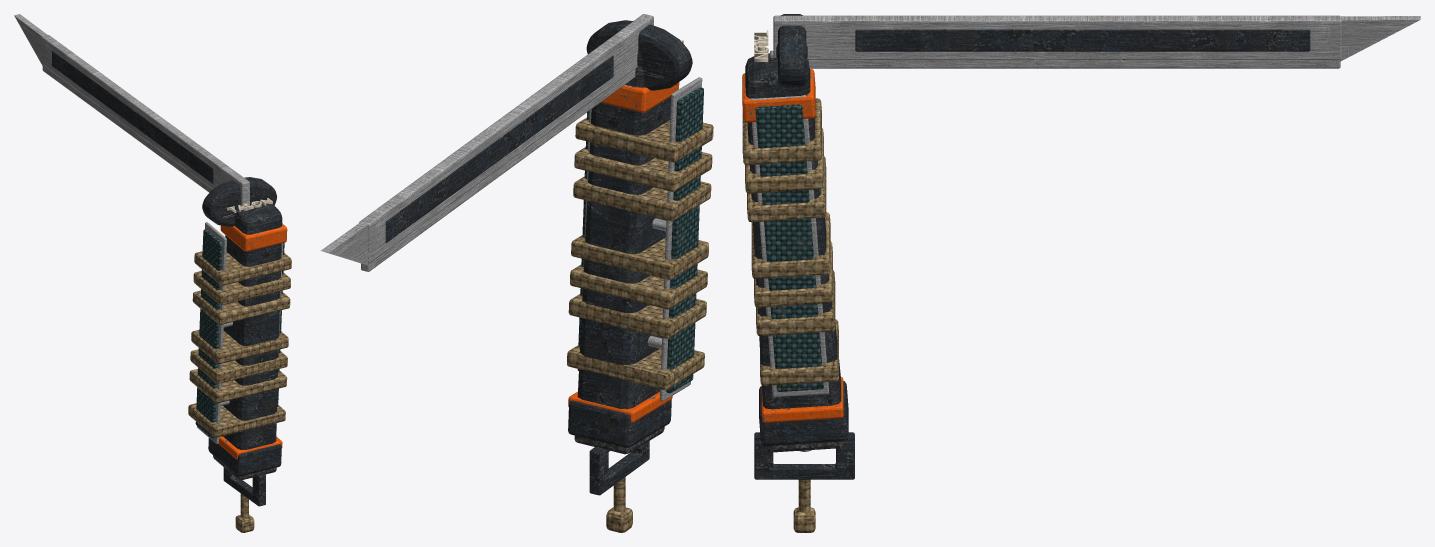
File: talon.glb
3 renders of one model, left to right at view 1: azimuth 30°, elevation 25°; view 2: azimuth 150°, elevation 25°; view 3: azimuth 270°, elevation 25°, orthographic. The views are drawn at different scales.
Visible parts, largest first — view 1: body | blackened, body | tan webbing, body | blade steel, body | petrol grip, body | polished edge, body | orange paint; view 2: body | blackened, body | tan webbing, body | blade steel, body | petrol grip, body | polished edge, body | orange paint, body | rubber; view 3: body | blackened, body | blade steel, body | tan webbing, body | petrol grip, body | polished edge, body | orange paint.
Boxes of the visible parts, x1,y1,x2,y2 form: body | blackened: (52,51,282,506); body | tan webbing: (188,251,291,532); body | blade steel: (41,35,283,443); body | petrol grip: (195,229,284,438); body | polished edge: (14,14,249,210); body | orange paint: (219,223,287,459); body | blackened: (385,20,692,495); body | tan webbing: (567,117,713,532); body | blade steel: (359,14,702,401); body | petrol grip: (577,87,703,393); body | polished edge: (320,69,635,271); body | orange paint: (568,82,679,422); body | rubber: (574,427,664,454); body | blackened: (745,14,1310,479); body | blade steel: (750,15,1341,451); body | tan webbing: (742,98,838,532); body | petrol grip: (755,104,823,391); body | polished edge: (770,16,1420,68); body | orange paint: (742,69,843,422).
Bounding box in the file's own units: 0.074 × 0.355 × 0.4317.
8 materials, 8 textured.
